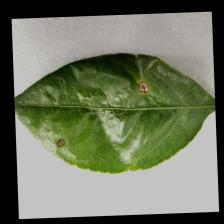canker: (36, 72, 154, 151)
